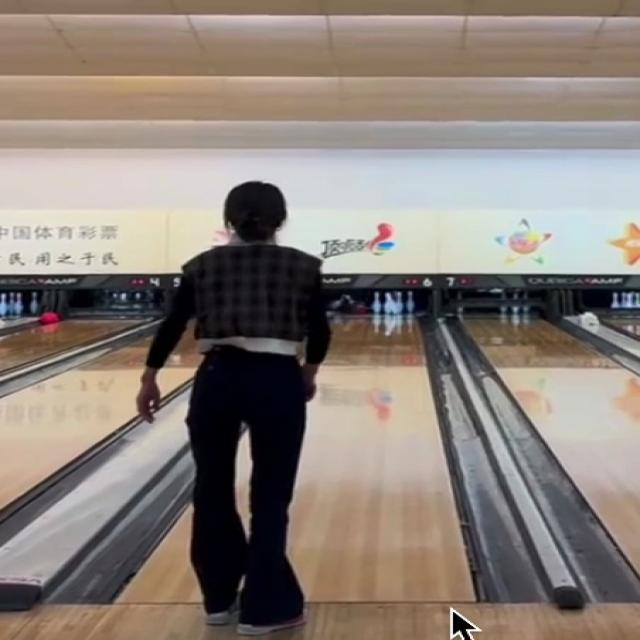alley: (289, 315, 473, 601), (119, 509, 200, 603)
balls: (353, 303, 370, 316)
bottle: (371, 291, 413, 315), (330, 294, 353, 311)
